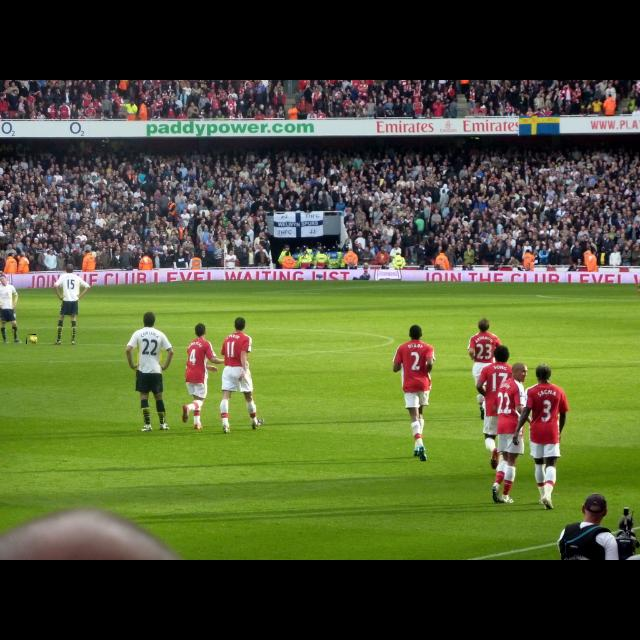Football: (26, 334, 36, 344)
